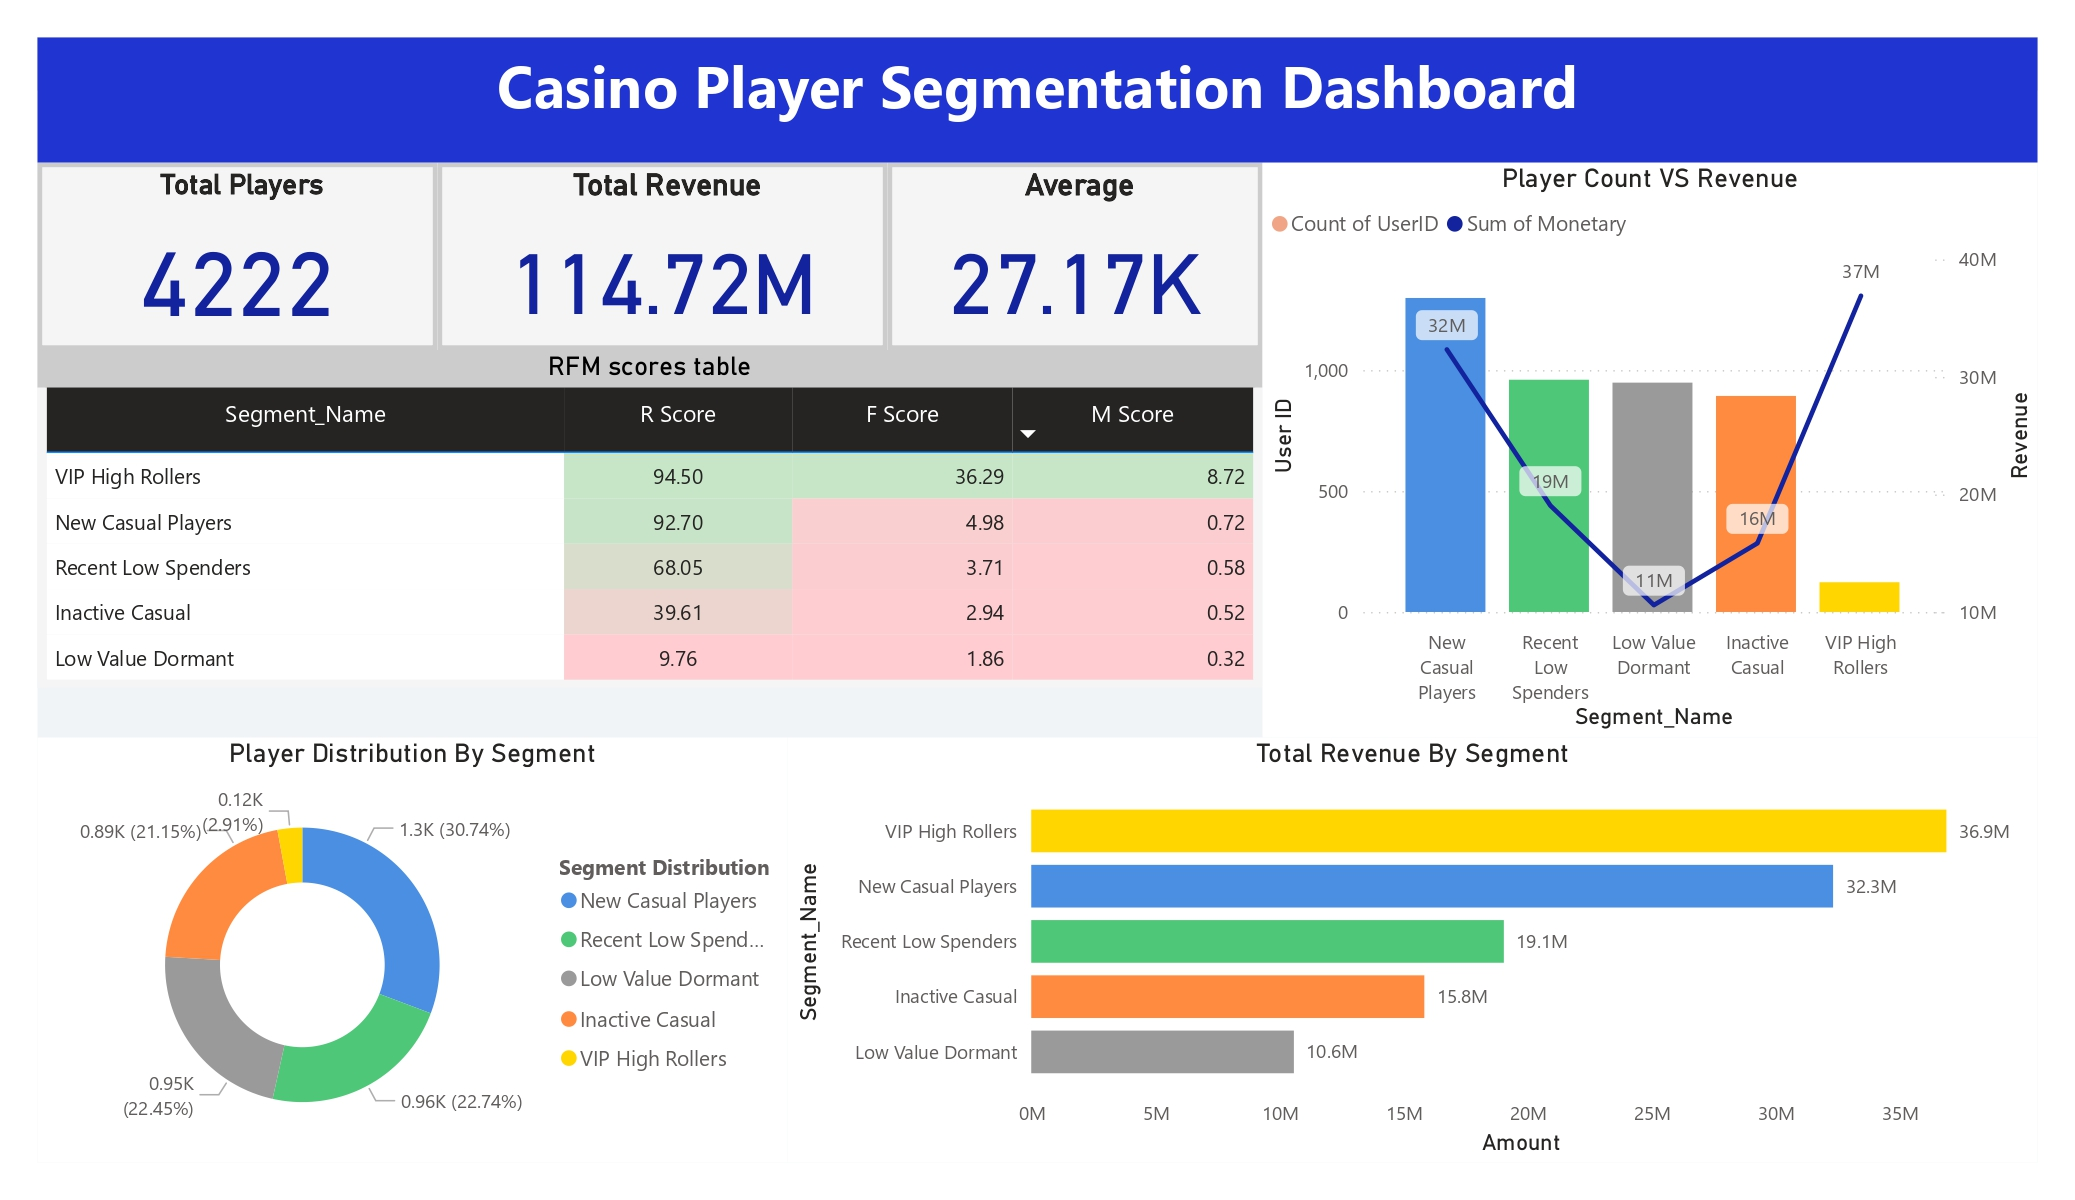

What the dashboard file says about the page in this screenshot:
{"tool":"powerbi","page":{"name":"Page 1","canvas":[1280,720],"ordinal":0},"visuals":[{"type":"card","title":"Total Players","fields":{"Values":["CountNonNull(casino_data_final_with_strategies.UserID)"]},"box":[0,80,256,120],"z":0},{"type":"card","title":"Total Revenue","fields":{"Values":["Sum(casino_data_final_with_strategies.Monetary)"]},"box":[256,80,288,120],"z":1000},{"type":"card","title":"Average","fields":{"Values":["Avg(casino_data_final_with_strategies.Monetary)"]},"box":[544,80,240,120],"z":2000},{"type":"donutChart","title":"Player Distribution By Segment","fields":{"Category":["casino_data_final_with_strategies.Segment_Name"],"Y":["CountNonNull(casino_data_final_with_strategies.UserID)"]},"box":[0,448,480,272],"z":3000},{"type":"clusteredBarChart","title":"Total Revenue By Segment ","fields":{"Category":["casino_data_final_with_strategies.Segment_Name"],"Y":["Sum(casino_data_final_with_strategies.Monetary)"]},"box":[480,448,800,272],"z":4000},{"type":"tableEx","title":"RFM scores table","fields":{"Values":["casino_data_final_with_strategies.Segment_Name","Avg(casino_data_final_with_strategies.R_Score)","Avg(casino_data_final_with_strategies.F_Score)","Avg(casino_data_final_with_strategies.M_Score)"]},"box":[0,200,784,216],"z":5000},{"type":"lineClusteredColumnComboChart","title":"Player Count VS Revenue","fields":{"Category":["casino_data_final_with_strategies.Segment_Name"],"Y":["CountNonNull(casino_data_final_with_strategies.UserID)"],"Y2":["Sum(casino_data_final_with_strategies.Monetary)"]},"box":[784,80,496,368],"z":6000},{"type":"textbox","box":[0,0,1280,80],"z":7000}]}

Visuals, with their boxes in screenshot pixels (x1, y1, x2, y2):
"Total Players" card: left=38, top=162, right=438, bottom=350
"Total Revenue" card: left=438, top=162, right=888, bottom=350
"Average" card: left=888, top=162, right=1262, bottom=350
"Player Distribution By Segment" donutChart: left=38, top=738, right=788, bottom=1162
"Total Revenue By Segment " clusteredBarChart: left=788, top=738, right=2038, bottom=1162
"RFM scores table" tableEx: left=38, top=350, right=1262, bottom=688
"Player Count VS Revenue" lineClusteredColumnComboChart: left=1262, top=162, right=2038, bottom=738
textbox: left=38, top=38, right=2038, bottom=162
